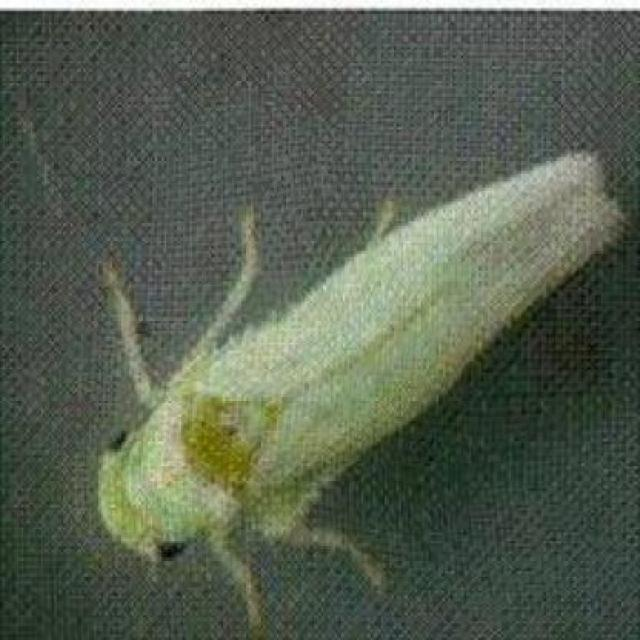green-leafhopper: (98, 148, 614, 589)
